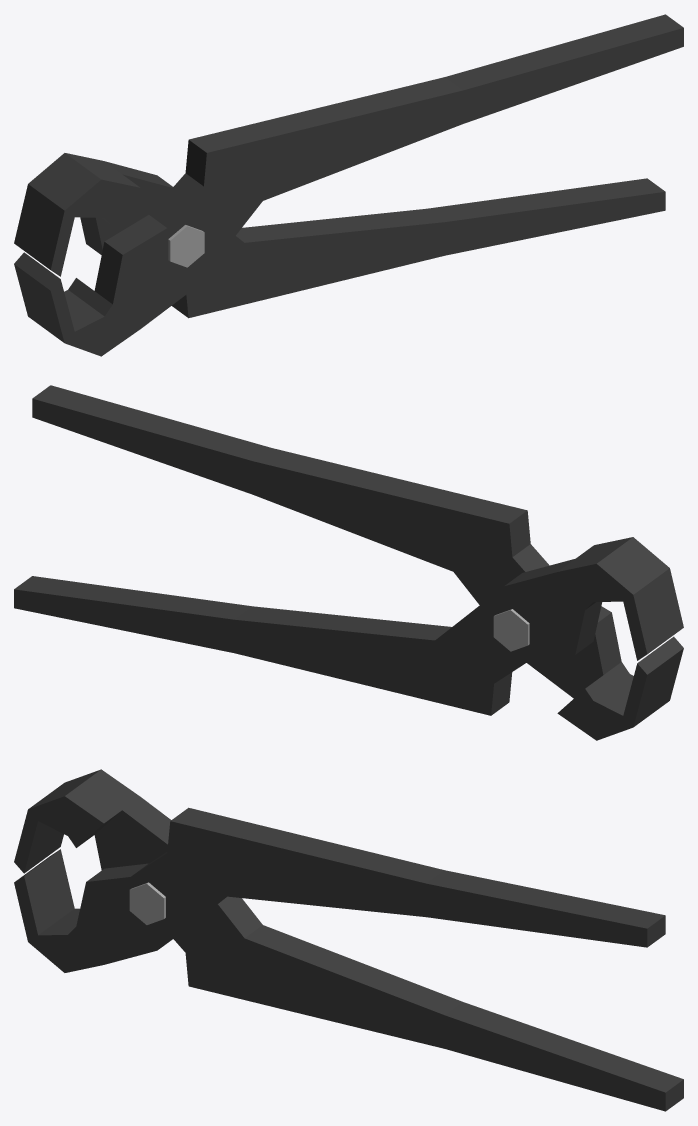
Rendered from Clippers.fbx.
3 renders of one model, top to bottom at view 1: azimuth 30°, elevation 25°; view 2: azimuth 150°, elevation 25°; view 3: azimuth 330°, elevation 25°, orthographic.
Parts seen in each view (by area): view 1: Cube; view 2: Cube; view 3: Cube.
Part boxes in pixels (x1,y1,x2,y2): Cube: (14,14,683,356); Cube: (14,385,683,740); Cube: (14,769,683,1111).
Bounding box in the file's own units: 20 × 5.92 × 2.21.
